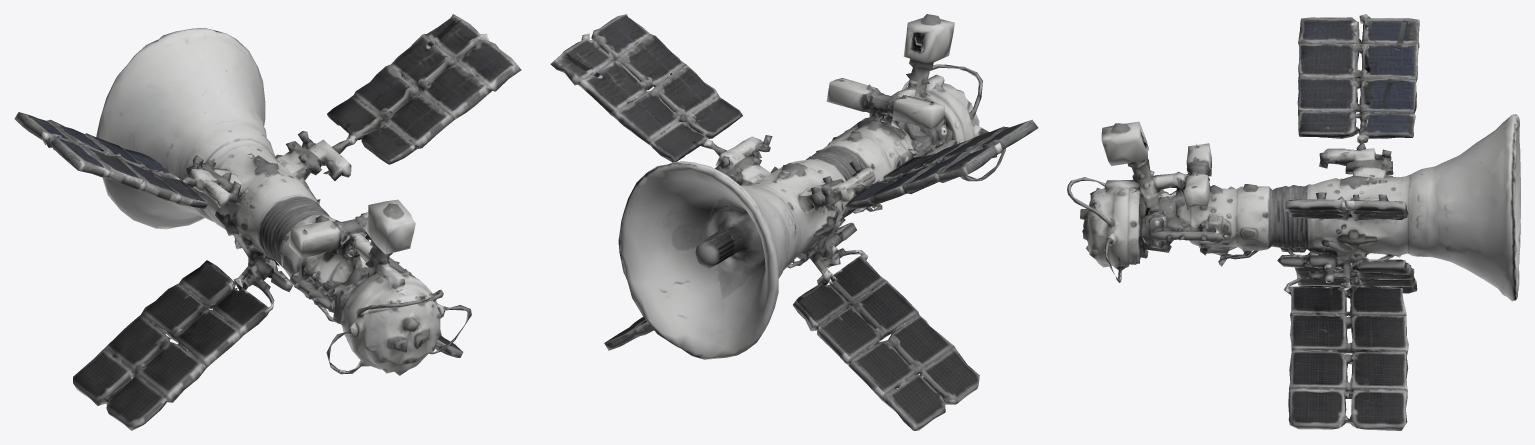
File: asset.glb
3 views of the same model, side by side, from view 1: azimuth 30°, elevation 25°; view 2: azimuth 150°, elevation 25°; view 3: azimuth 270°, elevation 25° (orthographic). The views are drawn at different scales.
Visible parts, largest first — view 1: Mesh1.001; view 2: Mesh1.001; view 3: Mesh1.001.
Part boxes in pixels (bbox=[...]): Mesh1.001: bbox=[14, 14, 521, 430]; Mesh1.001: bbox=[550, 14, 1038, 430]; Mesh1.001: bbox=[1067, 14, 1520, 430].
Bounding box in the file's own units: 1.89 × 1.19 × 1.92.
Materials: 1 (1 with a texture image).
